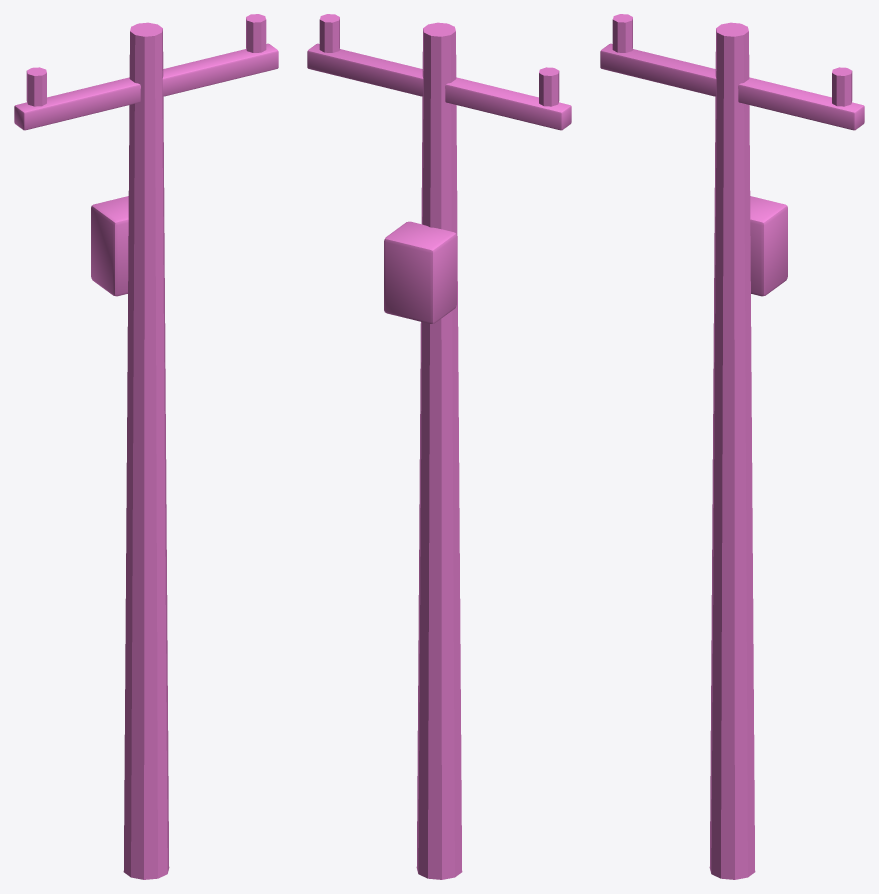
Rendered from Street_PowerPole.fbx.
The picture shows the model from 3 angles, left to right: view 1: azimuth 30°, elevation 25°; view 2: azimuth 150°, elevation 25°; view 3: azimuth 330°, elevation 25°; orthographic projection.
Parts seen in each view (by area): view 1: Pole; view 2: Pole; view 3: Pole.
Part boxes in pixels (x1,y1,x2,y2): Pole: [14, 14, 278, 879]; Pole: [307, 14, 571, 879]; Pole: [600, 14, 864, 879].
Size of the model in its own units: 7 by 22 by 2.05.
Materials: 1 (1 with a texture image).
